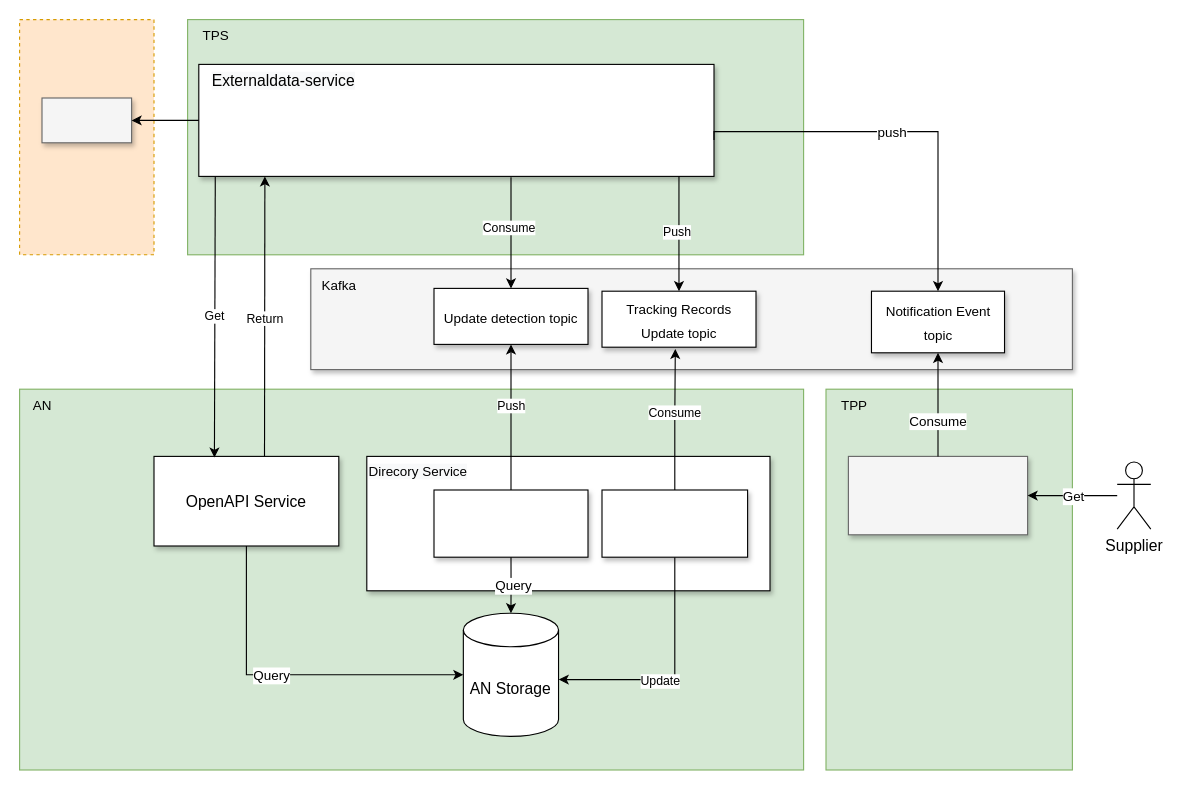
Image size: 1182x790. Some labels were removed from this diagram. The shapes that lost their labels are listed below. From the top down, each one's centre as x and y in pixels, then its label:
At (87,121): "D&B".
At (938,497): "In-app notification Service".
At (511,524): "CompanyProfile PostLoginTask".
At (675,524): "Tracking Records Update Consumer".
